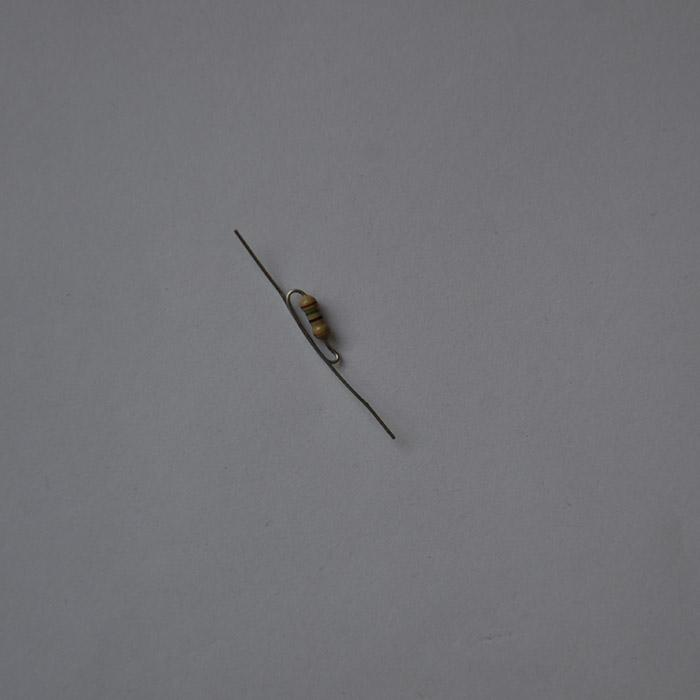resistor: (299, 293, 328, 339)
